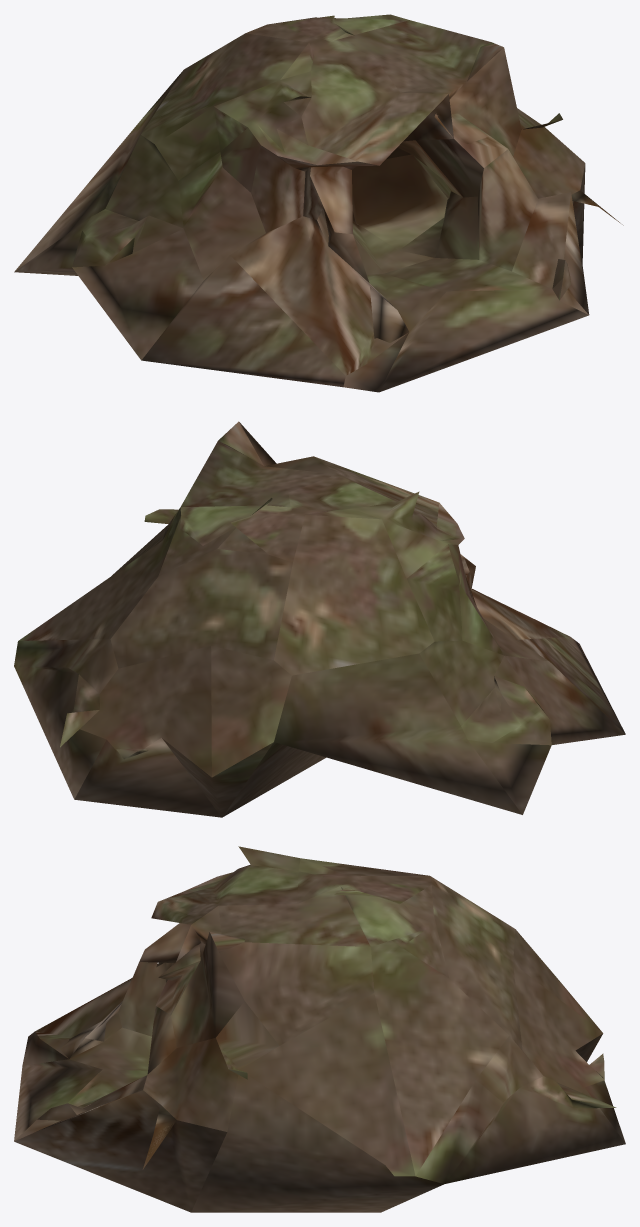
The model's file is Burrow_lod.glb.
3 views of the same model, one above another, from view 1: azimuth 30°, elevation 25°; view 2: azimuth 150°, elevation 25°; view 3: azimuth 270°, elevation 25° (orthographic). The views are drawn at different scales.
Visible parts, largest first — view 1: Burrow; view 2: Burrow; view 3: Burrow.
Boxes of the visible parts, bbox=[...] form: Burrow: bbox=[14, 14, 623, 392]; Burrow: bbox=[14, 421, 625, 817]; Burrow: bbox=[14, 846, 625, 1212].
Bounding box in the file's own units: 0.903 × 0.4035 × 0.8946.
Materials: 1 (1 with a texture image).
